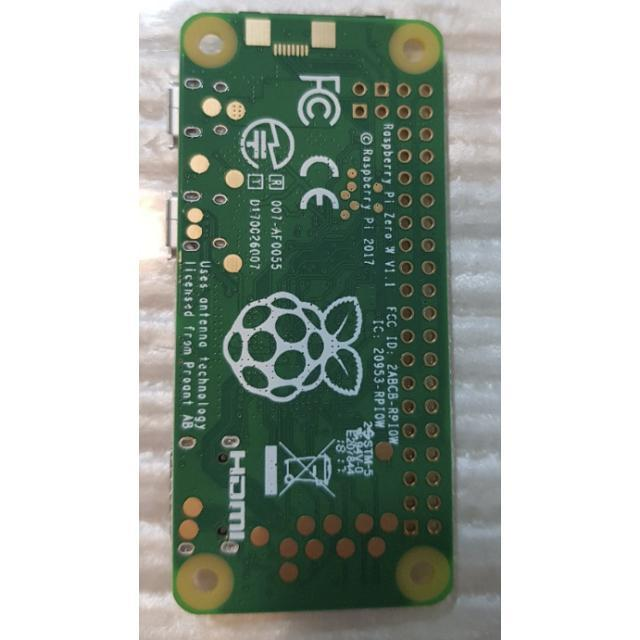Raspberry-Pi-Zero-W: (175, 13, 454, 614)
